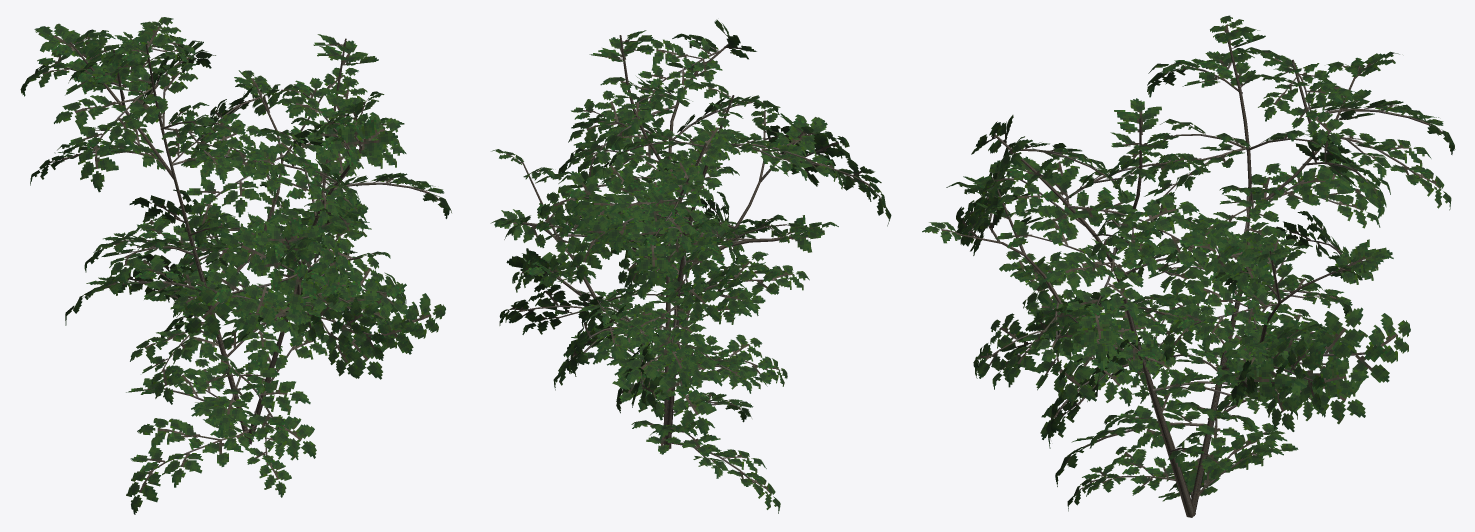
File: Bush1-4.fbx
3 views of the same model, side by side, from view 1: azimuth 30°, elevation 25°; view 2: azimuth 150°, elevation 25°; view 3: azimuth 270°, elevation 25° (orthographic). The views are drawn at different scales.
Parts seen in each view (by area): view 1: Bush1-4_LOD0; view 2: Bush1-4_LOD0; view 3: Bush1-4_LOD0.
Boxes of the visible parts, x1,y1,x2,y2 form: Bush1-4_LOD0: (20, 17, 451, 514); Bush1-4_LOD0: (490, 19, 891, 513); Bush1-4_LOD0: (922, 15, 1455, 517).
Size of what is drawn, in the model's own units: 1.47 by 1.89 by 1.94.
